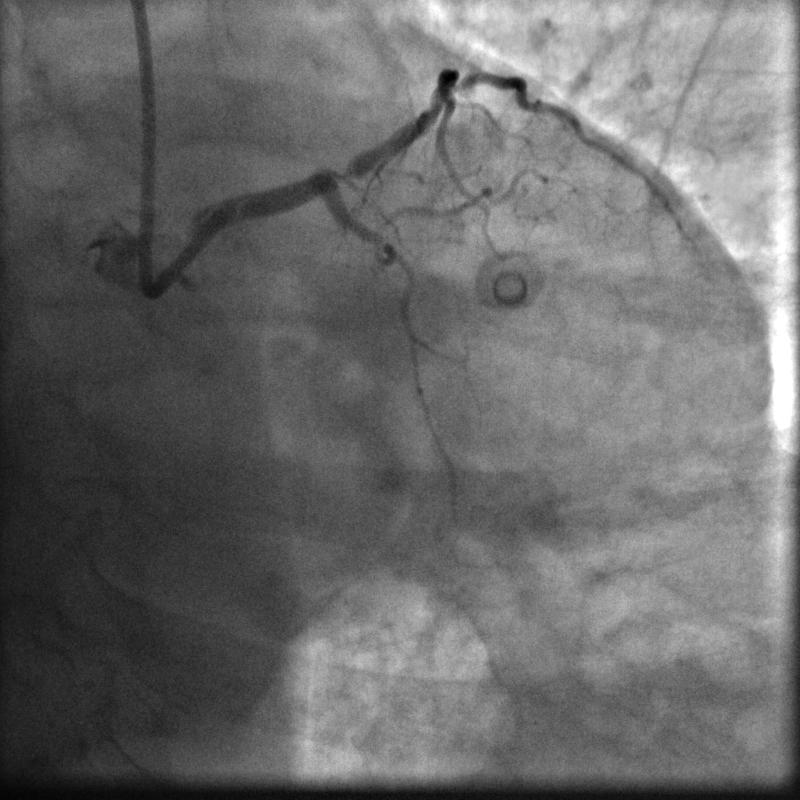Stenosis: (322, 156, 360, 184)
